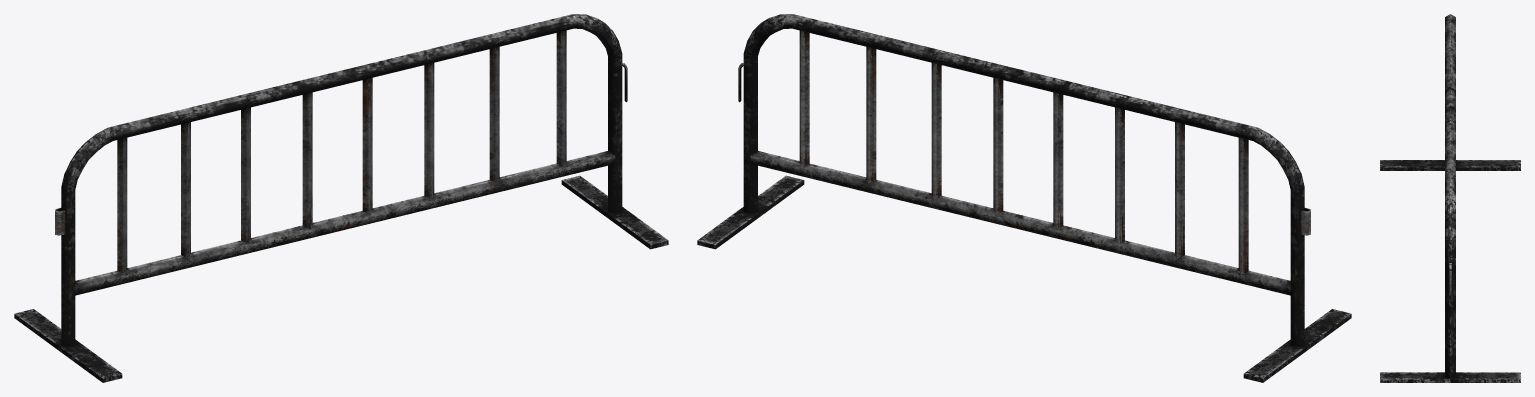
Rendered from barrierMetal2.fbx.
The picture shows the model from 3 angles, left to right: view 1: azimuth 30°, elevation 25°; view 2: azimuth 150°, elevation 25°; view 3: azimuth 270°, elevation 25°; orthographic projection. The views are drawn at different scales.
Visible parts, largest first — view 1: barrier_metal_LOD0; view 2: barrier_metal_LOD0; view 3: barrier_metal_LOD0.
Boxes of the visible parts, box(x1,y1,x2,y2) form: barrier_metal_LOD0: box(14, 14, 668, 382); barrier_metal_LOD0: box(697, 14, 1351, 382); barrier_metal_LOD0: box(1380, 14, 1520, 382).
Size of what is drawn, in the model's own units: 3.09 by 1.09 by 0.828.
